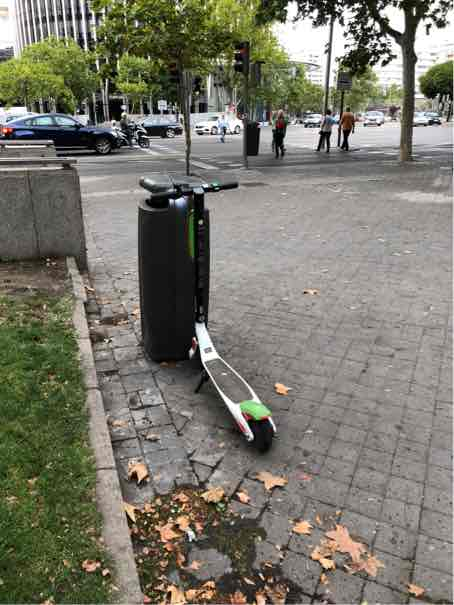scooter: (136, 158, 296, 461)
